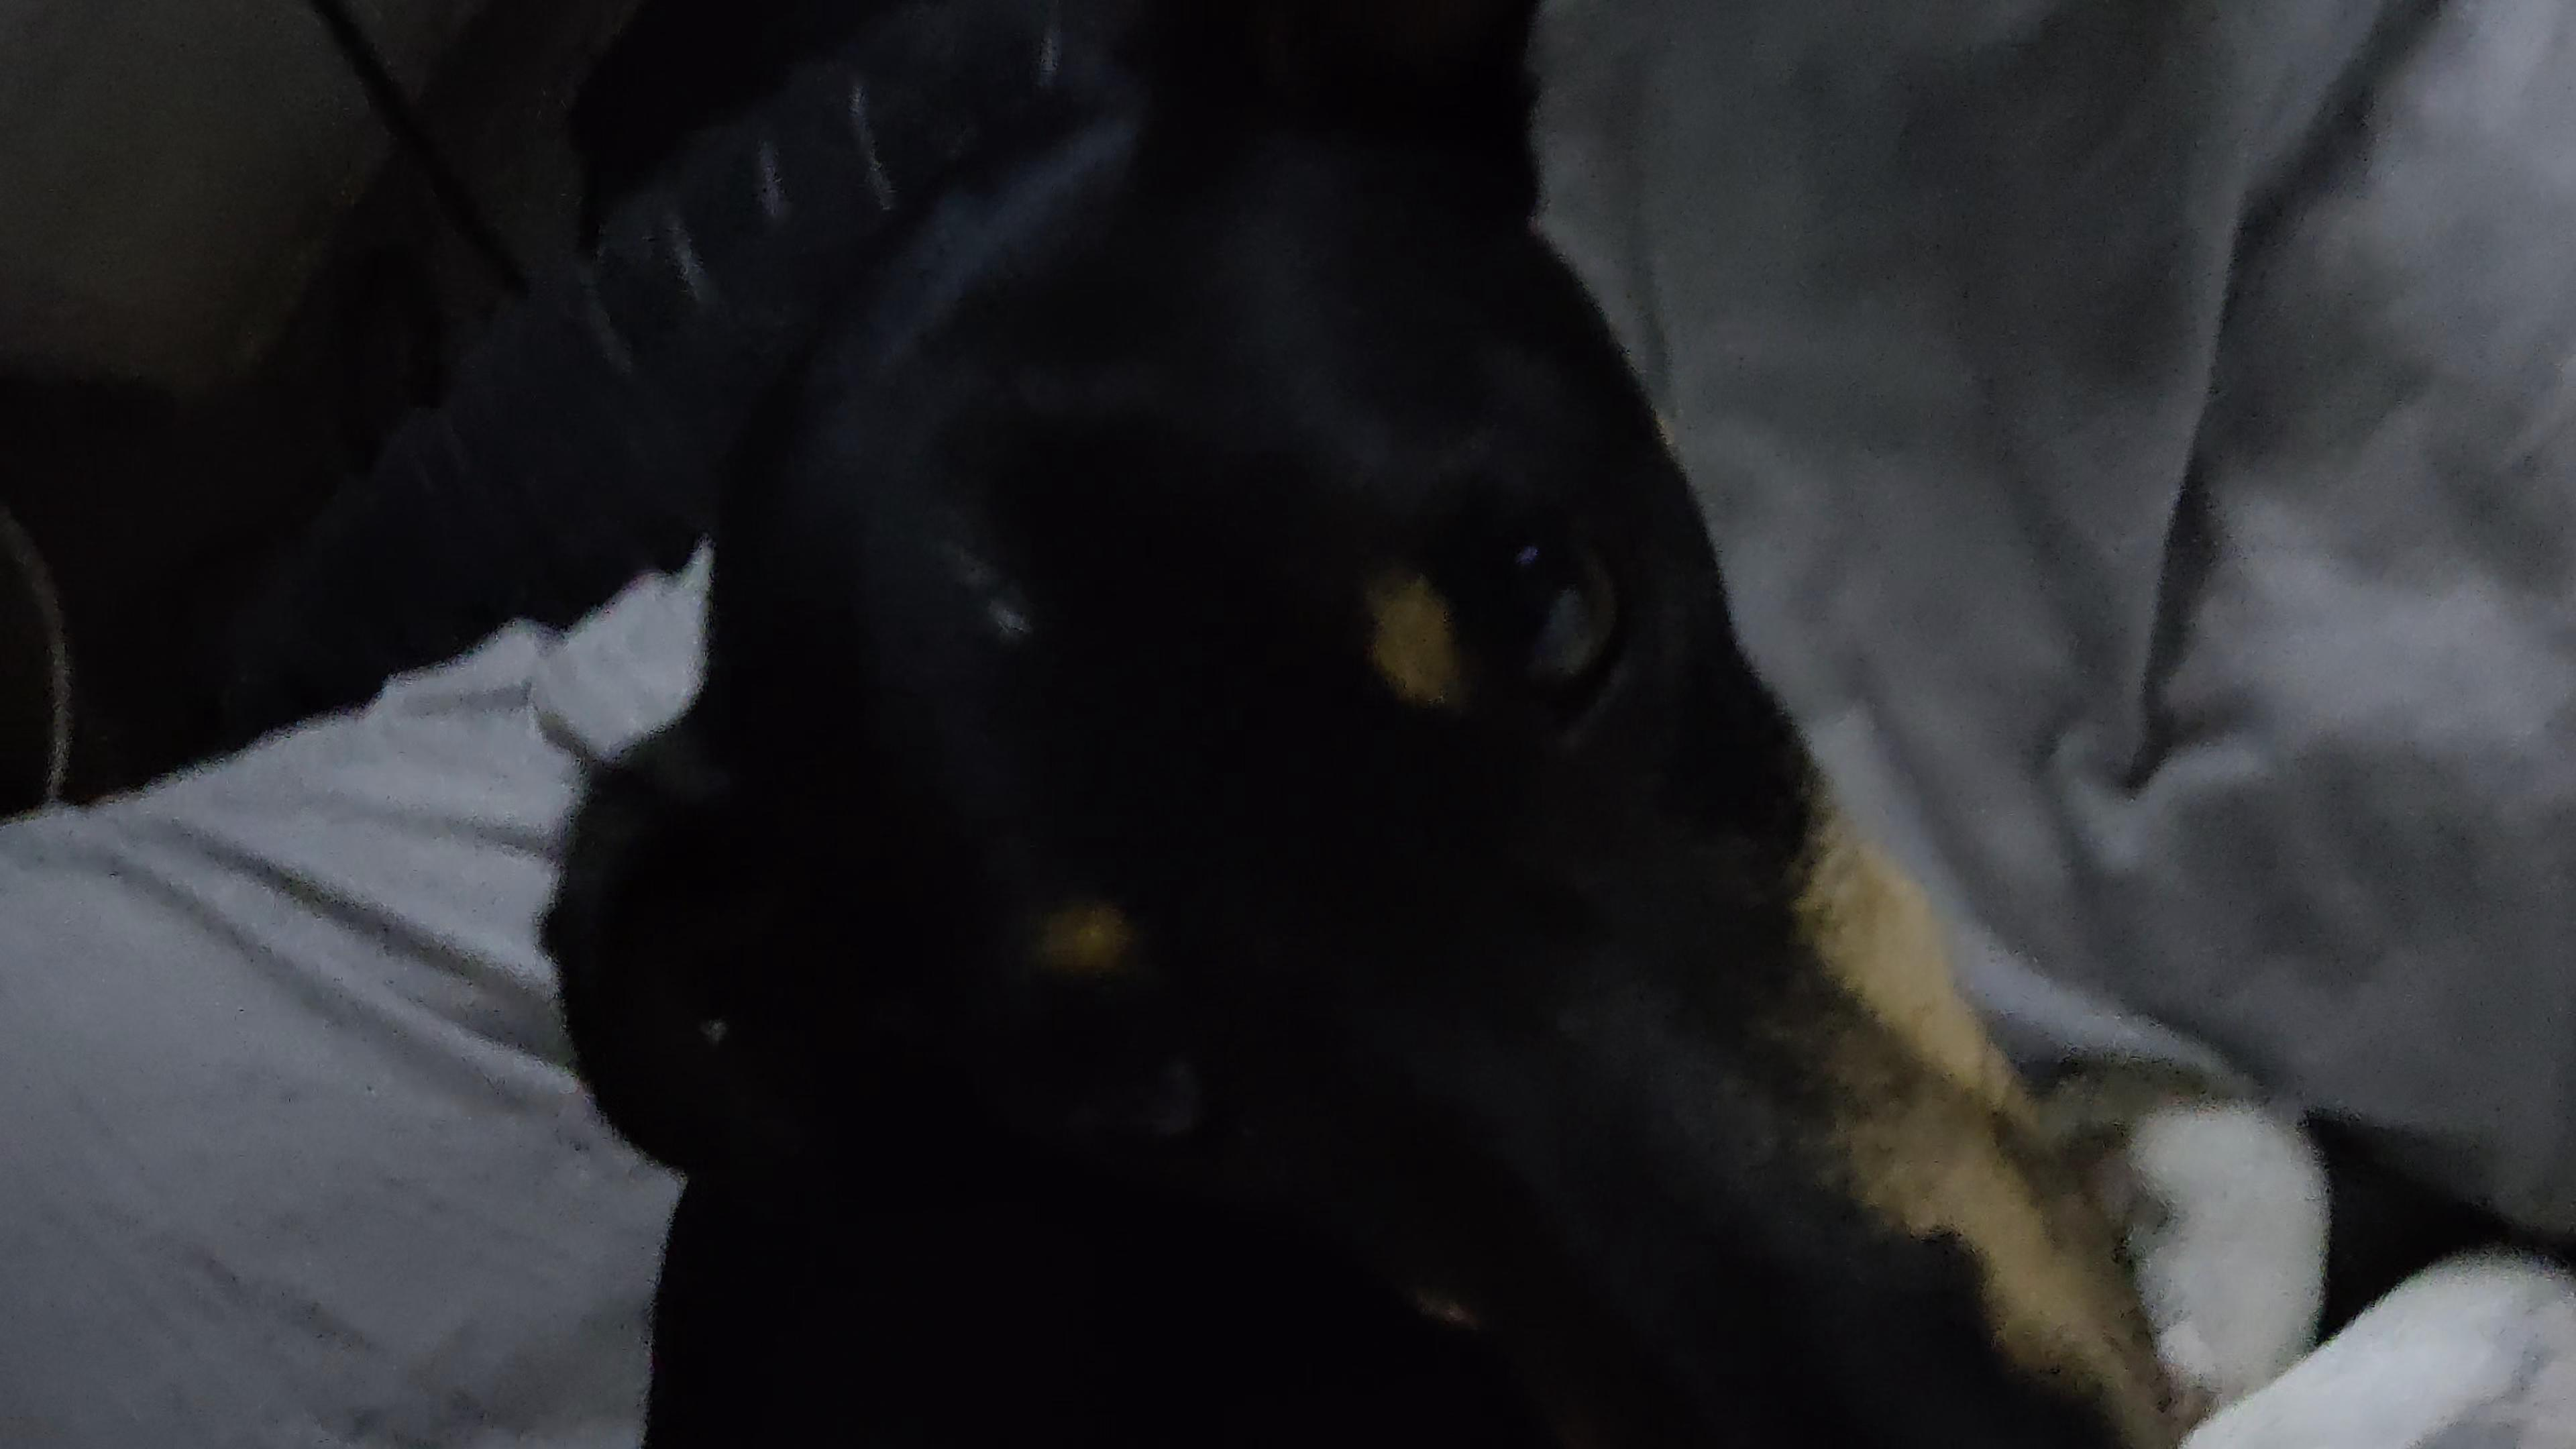Dog: (497, 0, 2576, 1449)
